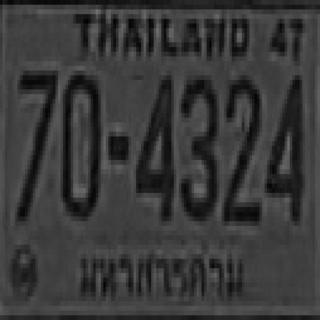N00: (60, 68, 98, 214)
N02: (222, 73, 260, 219)
N03: (179, 70, 217, 216)
N04: (265, 71, 302, 221), (135, 70, 173, 216)
N07: (15, 66, 55, 216)
P25: (77, 236, 245, 313)
